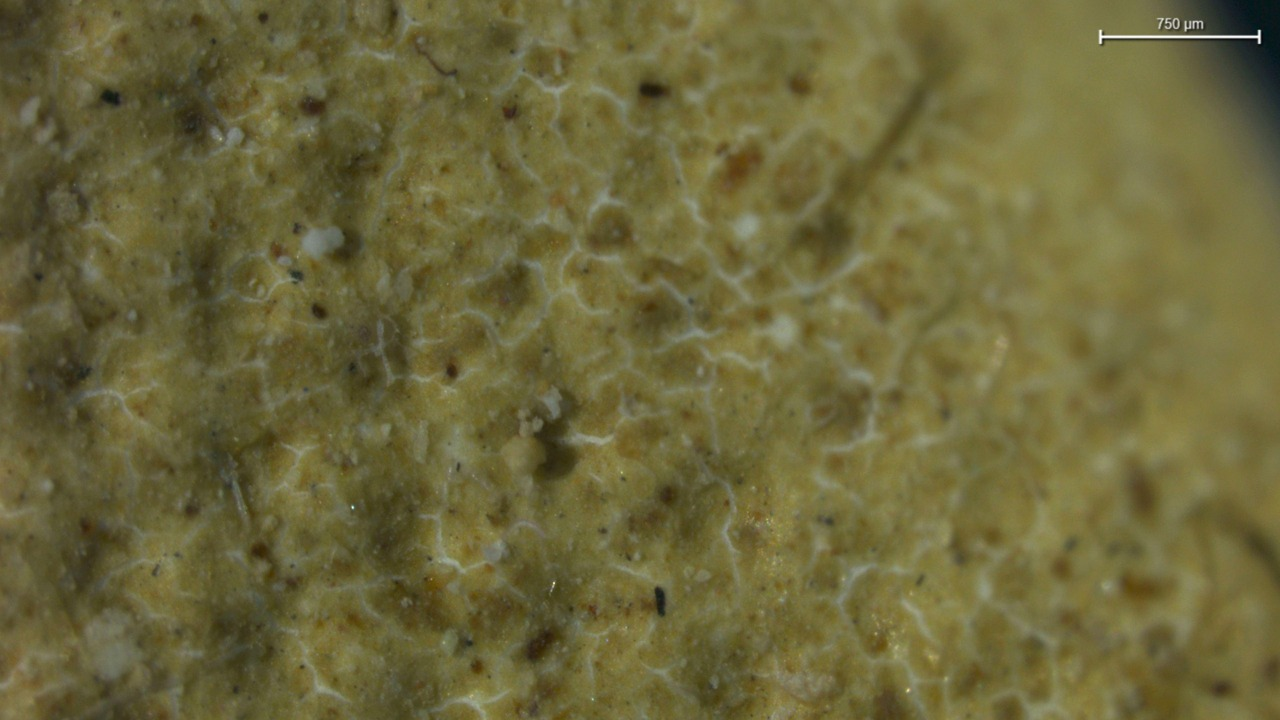microplastic_fragment: (501, 435, 545, 474), (301, 226, 344, 259)
